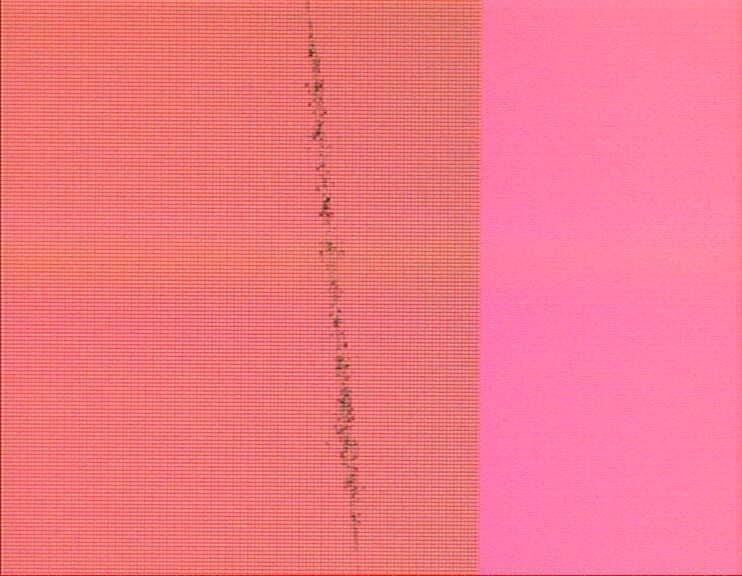SCRATCH: (294, 1, 377, 573)
